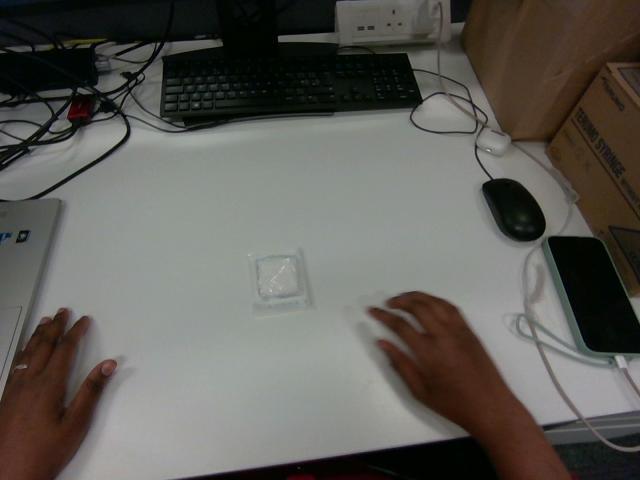gauze: (248, 249, 310, 315)
